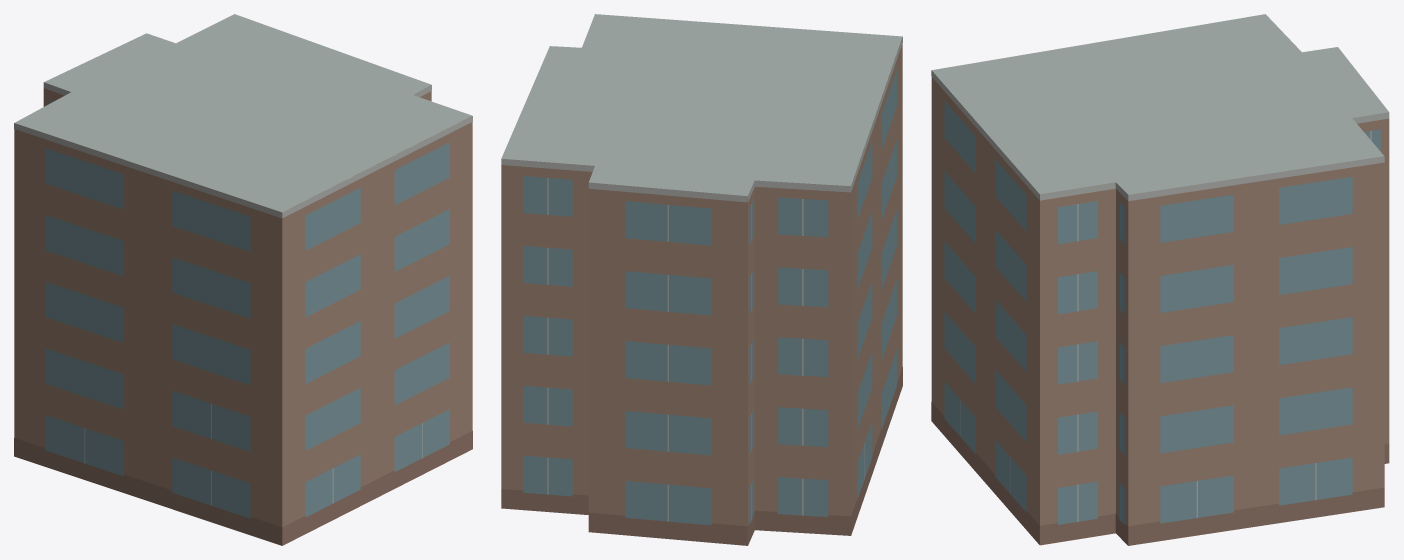
The model's file is survey-upis-32863045.glb.
3 renders of one model, left to right at view 1: azimuth 30°, elevation 25°; view 2: azimuth 150°, elevation 25°; view 3: azimuth 270°, elevation 25°, orthographic. The views are drawn at different scales.
Parts seen in each view (by area): view 1: survey-upis-32863045.tmp; view 2: survey-upis-32863045.tmp; view 3: survey-upis-32863045.tmp.
Part boxes in pixels (box(x1,y1,x2,y2)): survey-upis-32863045.tmp: box(14, 14, 472, 545); survey-upis-32863045.tmp: box(501, 14, 902, 545); survey-upis-32863045.tmp: box(931, 14, 1389, 545).
Size of the model in its own units: 15.16 by 13.7 by 16.21.
